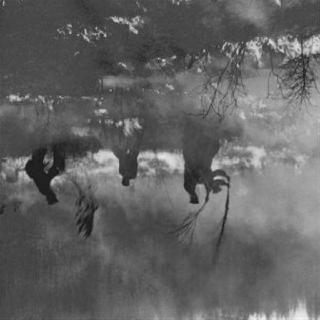Fire: (90, 147, 262, 191), (214, 32, 320, 74), (59, 14, 145, 48), (92, 102, 146, 134), (3, 88, 67, 114)
